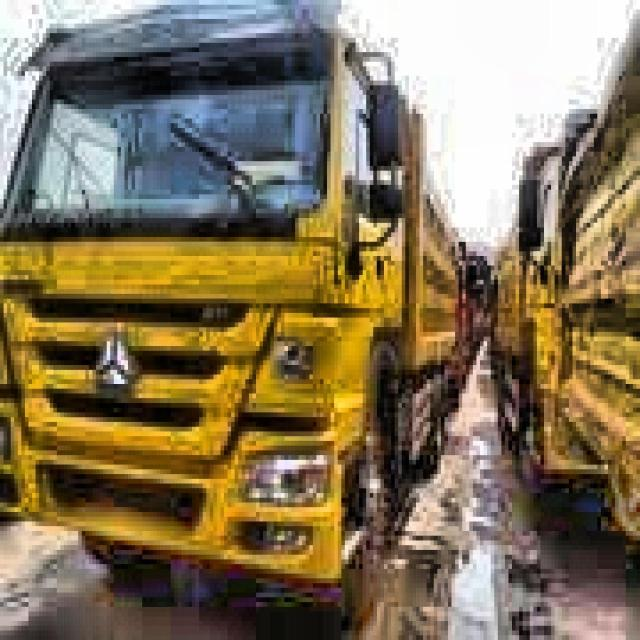dump_truck: (0, 10, 485, 592)
